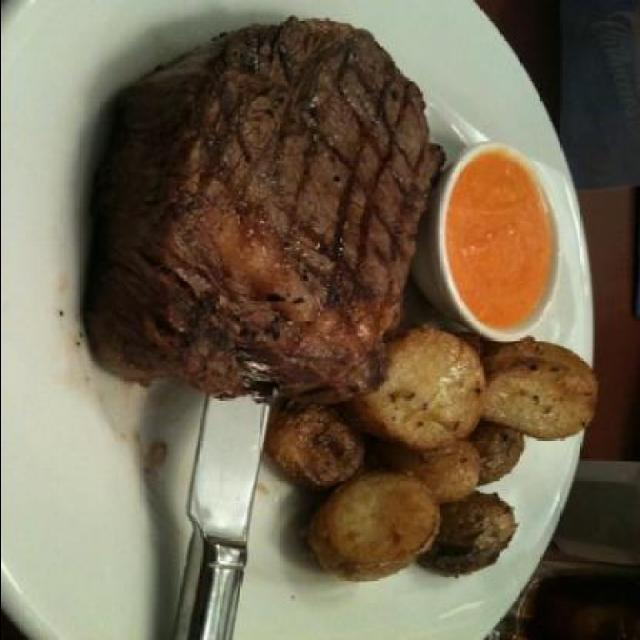Steak: (75, 58, 407, 410)
